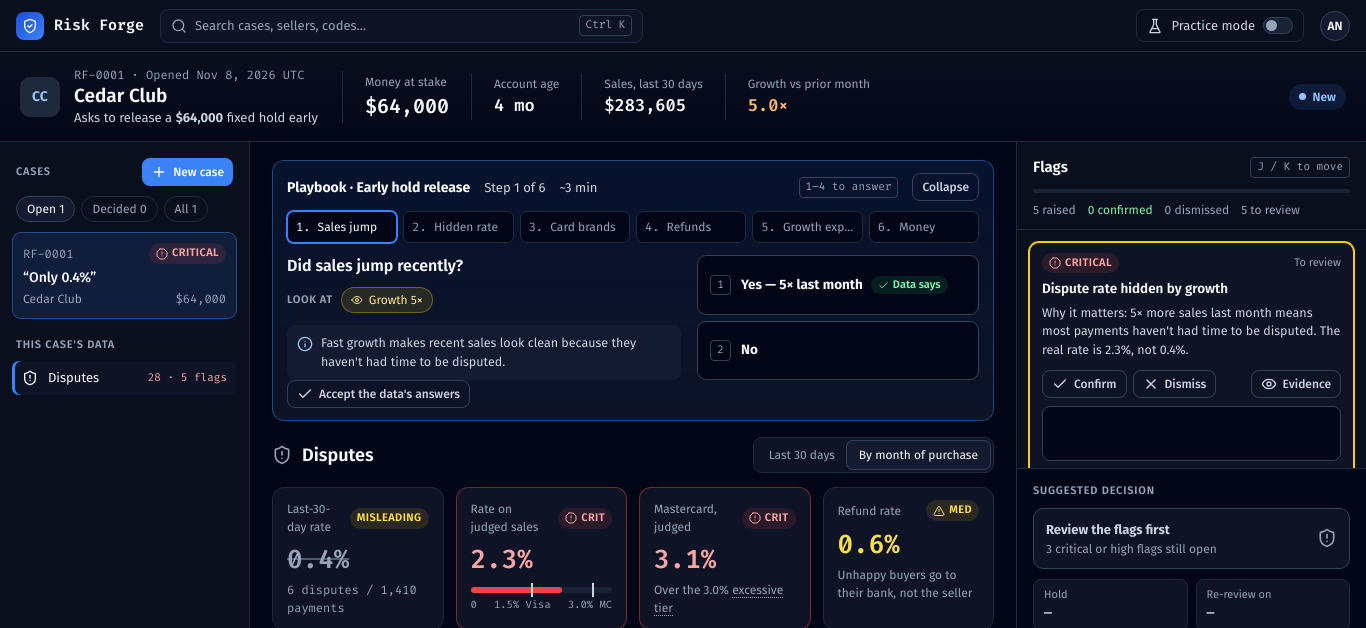
playbook in the console › dismissing the hidden flag in the Flags column shows the drift note
Expected: the element "Playbook" is shown, [272,160,994,421]
Expected: the element with class "sel" is shown, [1029,242,1354,468]
Type keys "11"
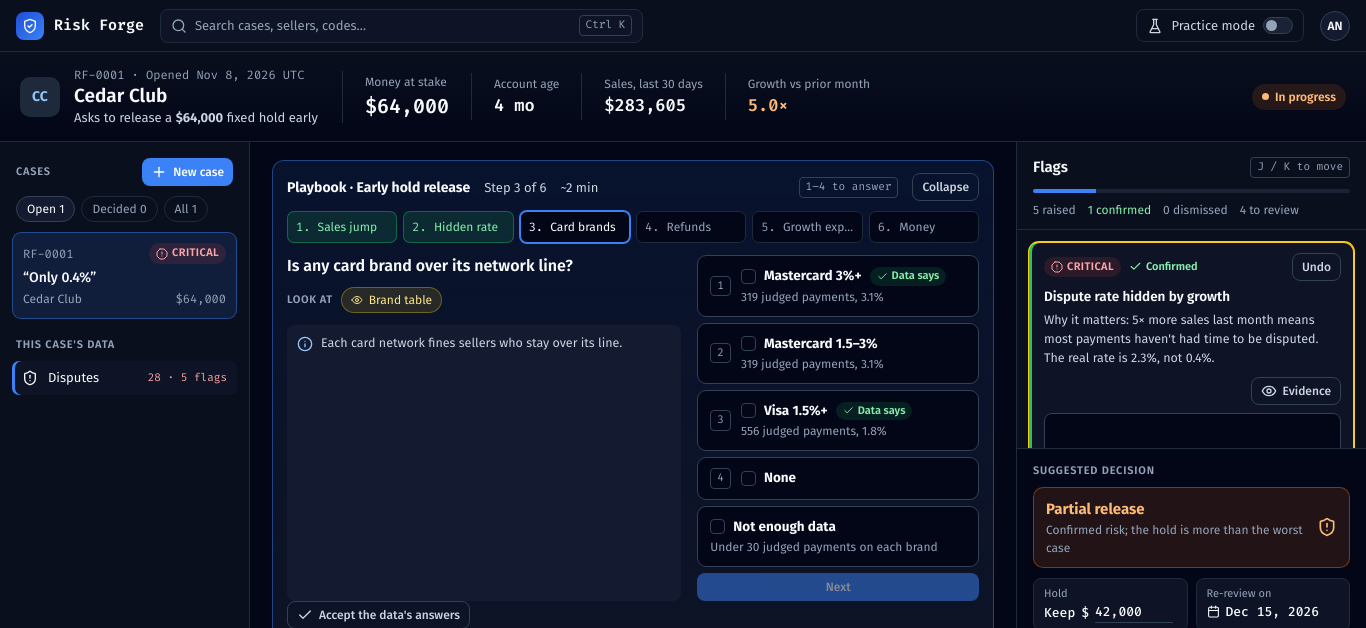
Expected: the text "1 confirmed" is shown, [1088,201,1151,219]
Click the button "Dispute rate hidden by growth": (1192, 297) [1044,287,1341,307]
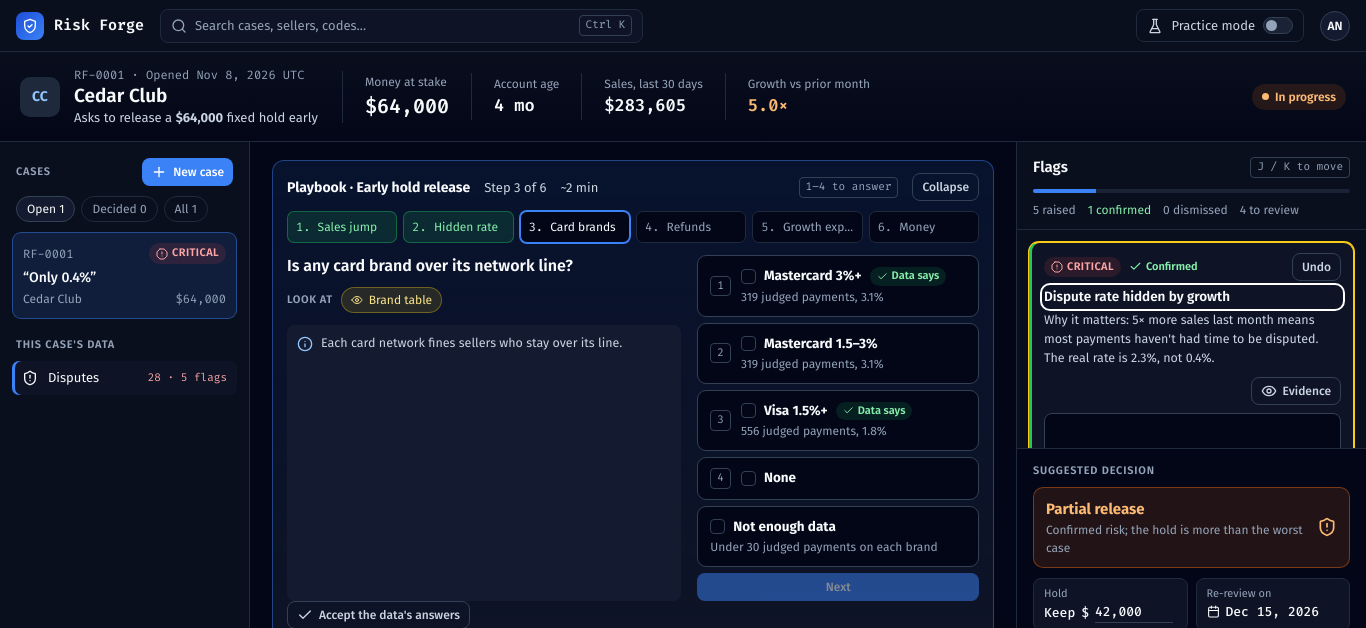
Type keys "d"
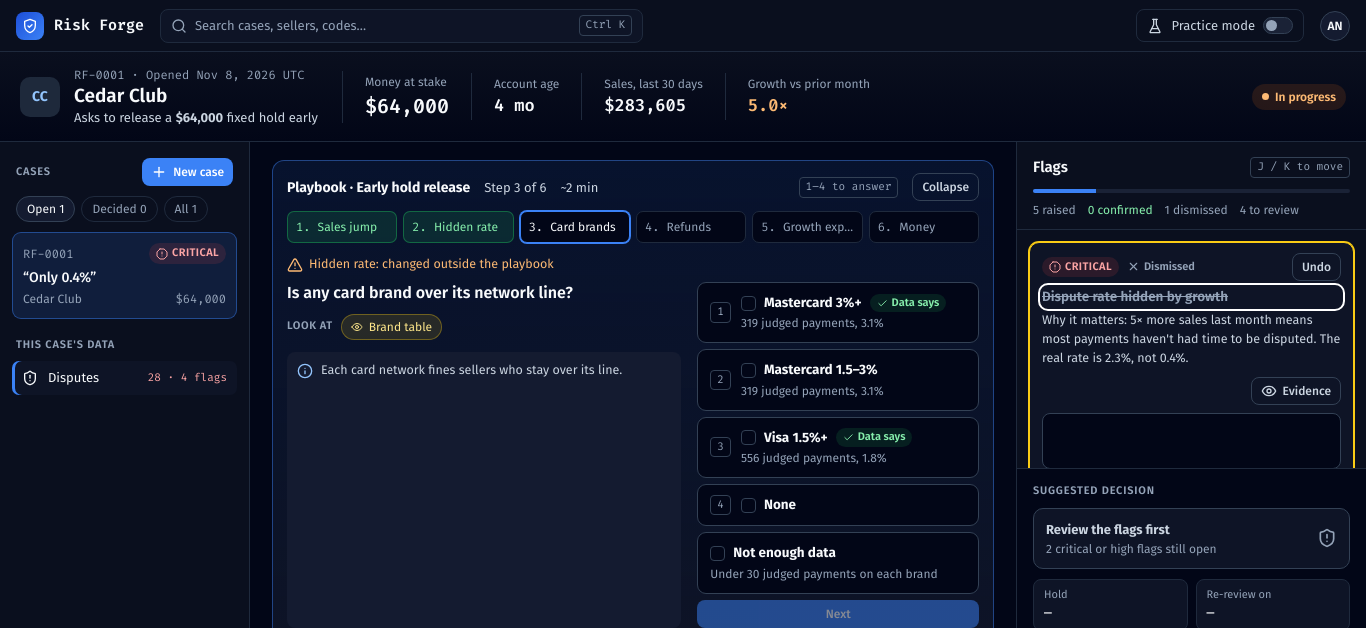
Expected: the text "Hidden rate: changed outside the playbook" is shown, [287,256,554,273]
